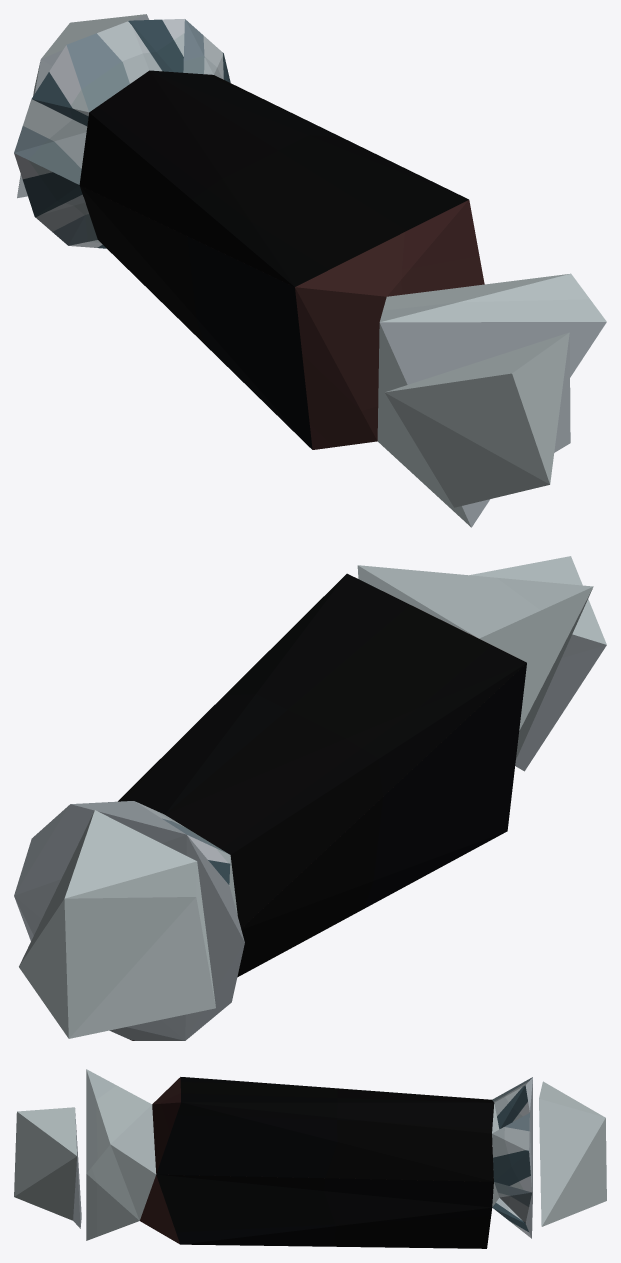
The model's file is zcjyz001-geode.glb.
3 views of the same model, one above another, from view 1: azimuth 30°, elevation 25°; view 2: azimuth 150°, elevation 25°; view 3: azimuth 270°, elevation 25° (orthographic). The views are drawn at different scales.
Visible parts, largest first — view 1: Node; view 2: Node; view 3: Node.
Boxes of the visible parts, x1,y1,x2,y2 form: Node: [14, 14, 606, 527]; Node: [14, 556, 606, 1040]; Node: [14, 1069, 606, 1248].
Size of the model in its own units: 0.1634 by 0.1658 by 0.5537.
Materials: 1 (1 with a texture image).
